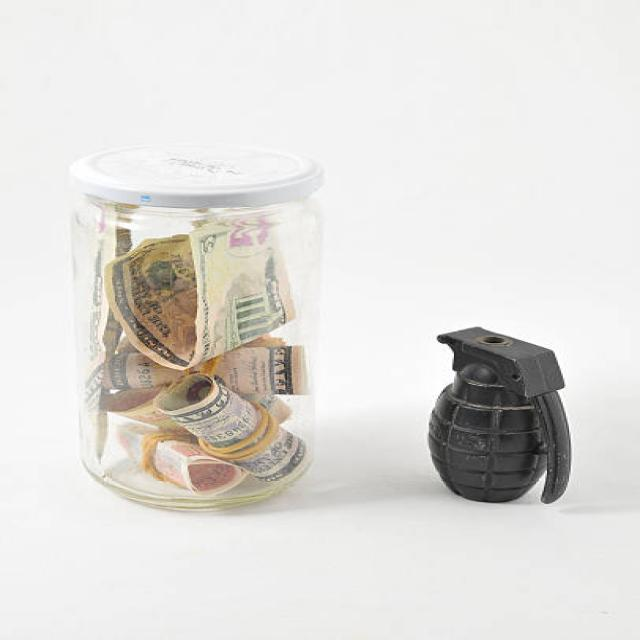grenade: (420, 327, 589, 511)
